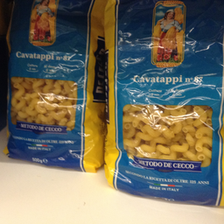pasta: (103, 1, 224, 207), (7, 1, 103, 171)
